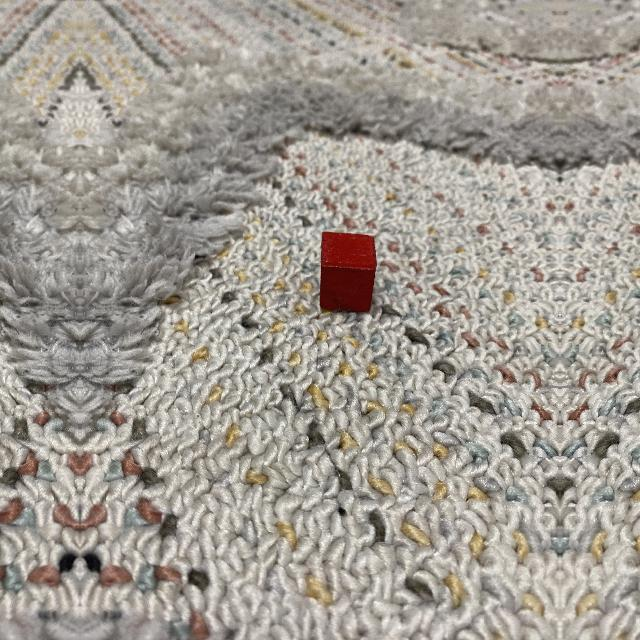red cube: (319, 233, 375, 313)
